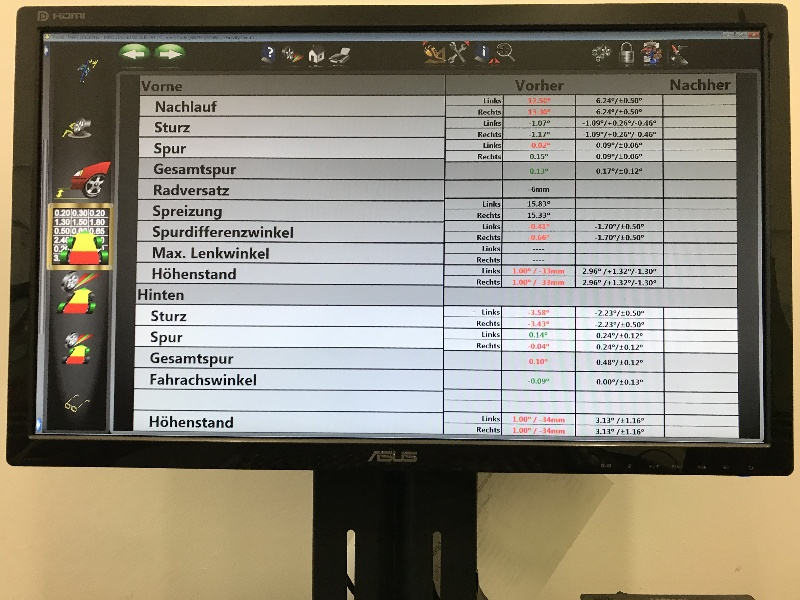wam_one: (135, 67, 577, 443)
